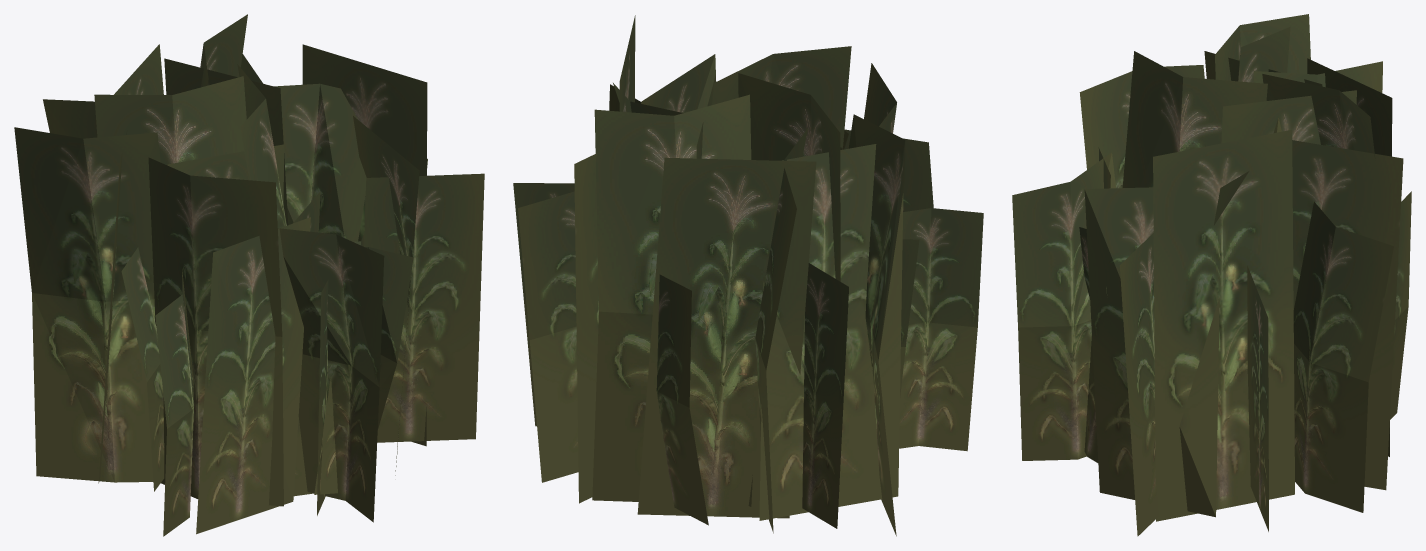
Rendered from bg_anh_foliage_a_crops02_sm_ksy.FBX.
3 views of the same model, side by side, from view 1: azimuth 30°, elevation 25°; view 2: azimuth 150°, elevation 25°; view 3: azimuth 270°, elevation 25° (orthographic). The views are drawn at different scales.
Parts seen in each view (by area): view 1: bg_anh_foliage_a_crops02_sm_ksy; view 2: bg_anh_foliage_a_crops02_sm_ksy; view 3: bg_anh_foliage_a_crops02_sm_ksy.
Boxes of the visible parts, box(x1,y1,x2,y2) form: bg_anh_foliage_a_crops02_sm_ksy: box(14, 14, 484, 536); bg_anh_foliage_a_crops02_sm_ksy: box(513, 15, 983, 536); bg_anh_foliage_a_crops02_sm_ksy: box(1012, 14, 1411, 536).
Size of the model in its own units: 303 by 281 by 267.
